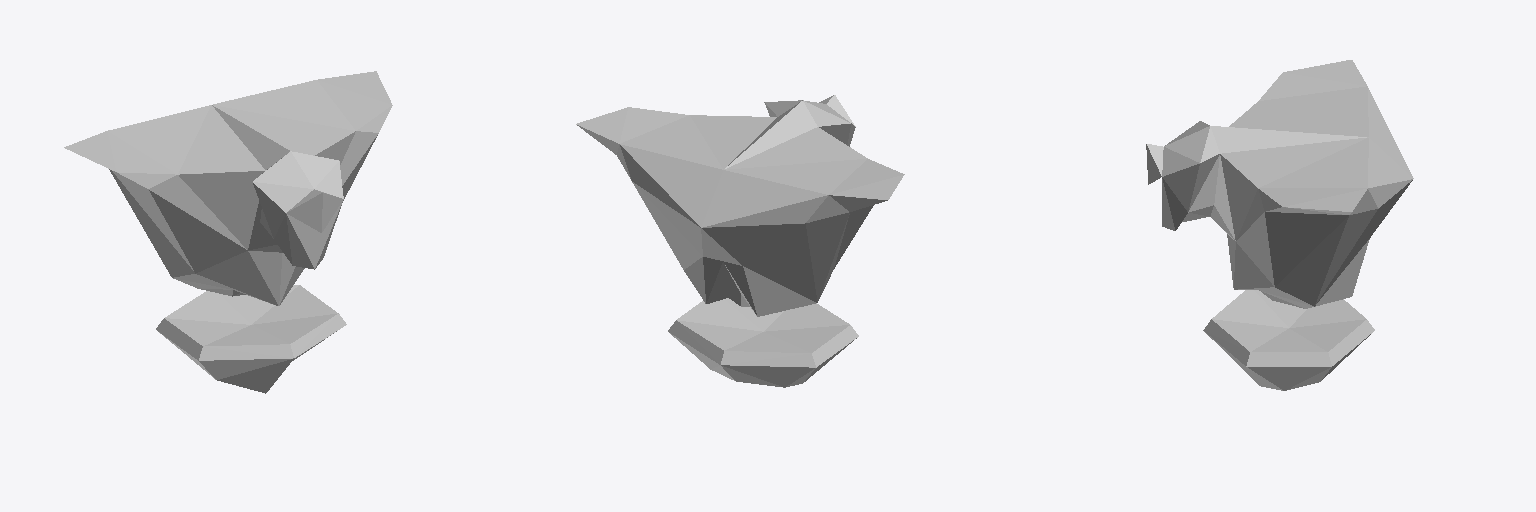
The model's file is Sniper.obj.
The picture shows the model from 3 angles: view 1: azimuth 30°, elevation 25°; view 2: azimuth 150°, elevation 25°; view 3: azimuth 270°, elevation 25°; orthographic projection.
Parts seen in each view (by area): view 1: Cube; view 2: Cube; view 3: Cube.
Part boxes in pixels (bbox=[...]): Cube: bbox=[64, 71, 392, 393]; Cube: bbox=[576, 95, 904, 387]; Cube: bbox=[1146, 60, 1413, 390].
Bounding box in the file's own units: 4.21 × 3.35 × 3.11.